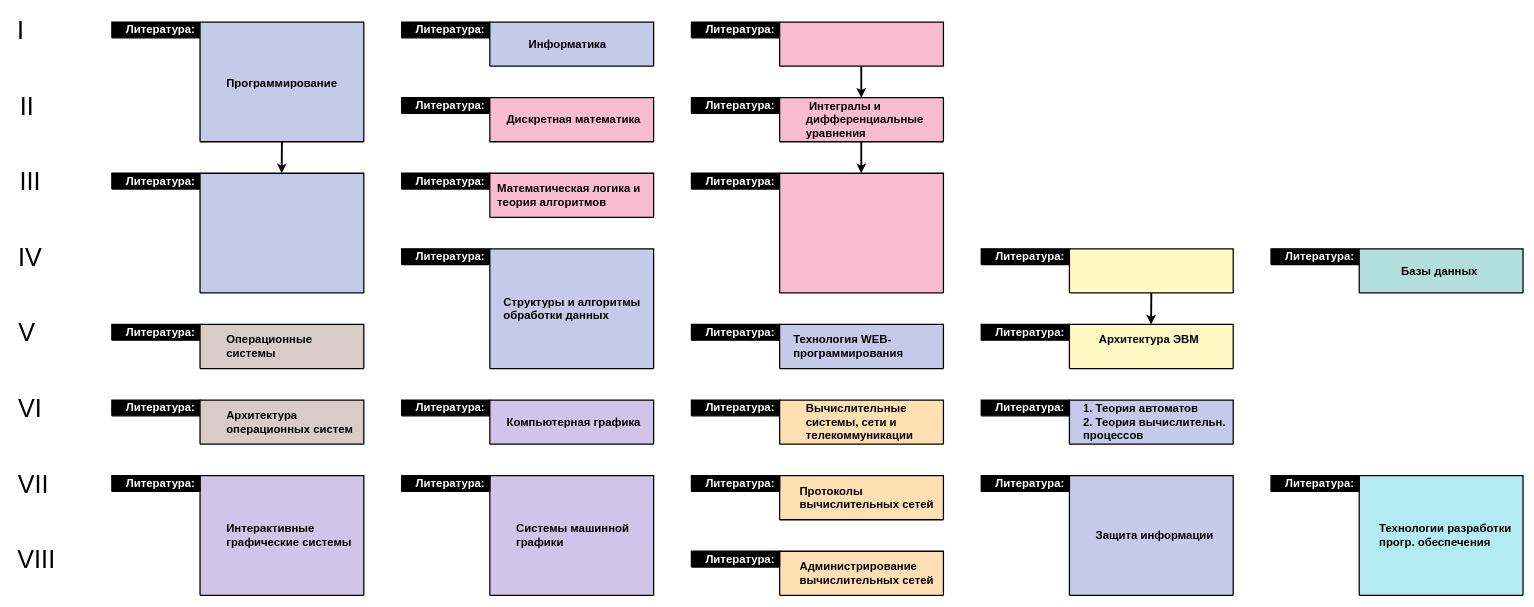
The diagram is 1534 pixels wide and 607 high, and some of its shapes have lost their labels. Each missing label, with the centre of its shape:
Вычислительная математика: point (861, 232)
Математический анализ: point (861, 43)
Объектно- ориентированное программирование: point (281, 232)
Организация ЭВМ и систем: point (1151, 270)
